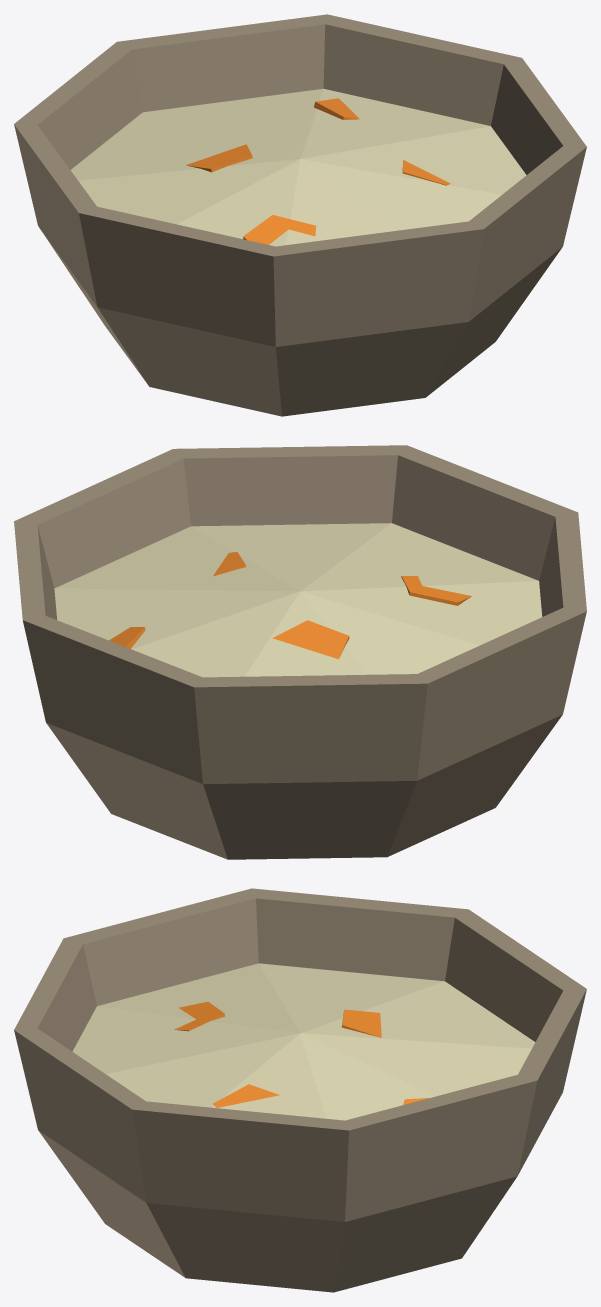
File: Food_soup.glb
3 views of the same model, one above another, from view 1: azimuth 30°, elevation 25°; view 2: azimuth 150°, elevation 25°; view 3: azimuth 270°, elevation 25° (orthographic). The views are drawn at different scales.
Visible parts, largest first — view 1: Soup; view 2: Soup; view 3: Soup.
Part boxes in pixels (left/top/right/bottom): Soup: left=14, top=14, right=586, bottom=416; Soup: left=14, top=445, right=586, bottom=859; Soup: left=14, top=888, right=586, bottom=1292.
Bounding box in the file's own units: 0.3177 × 0.1227 × 0.3177.
1 material, 1 textured.
